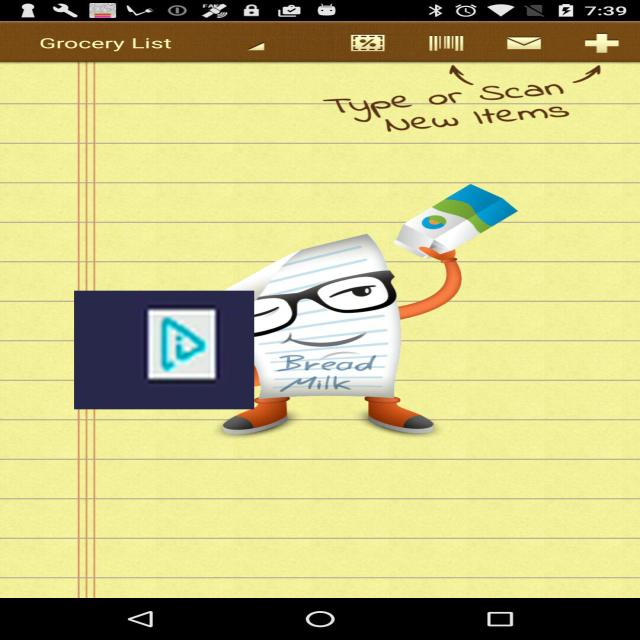sneaking: (74, 291, 254, 409)
